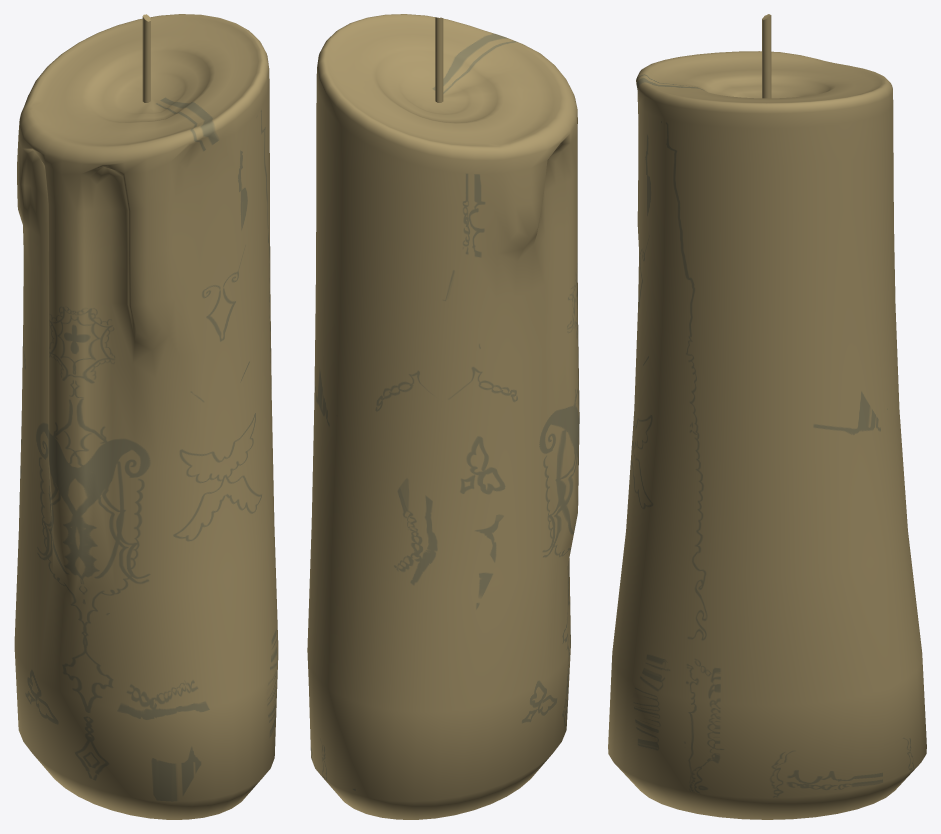
The model's file is MainBougie.fbx.
3 views of the same model, side by side, from view 1: azimuth 30°, elevation 25°; view 2: azimuth 150°, elevation 25°; view 3: azimuth 270°, elevation 25° (orthographic).
Visible parts, largest first — view 1: MainBougie; view 2: MainBougie; view 3: MainBougie.
Part boxes in pixels (x1,y1,x2,y2): MainBougie: (14, 14, 278, 819); MainBougie: (307, 14, 579, 819); MainBougie: (608, 14, 926, 819).
Size of the model in its own units: 9.51 by 30.27 by 11.44.
